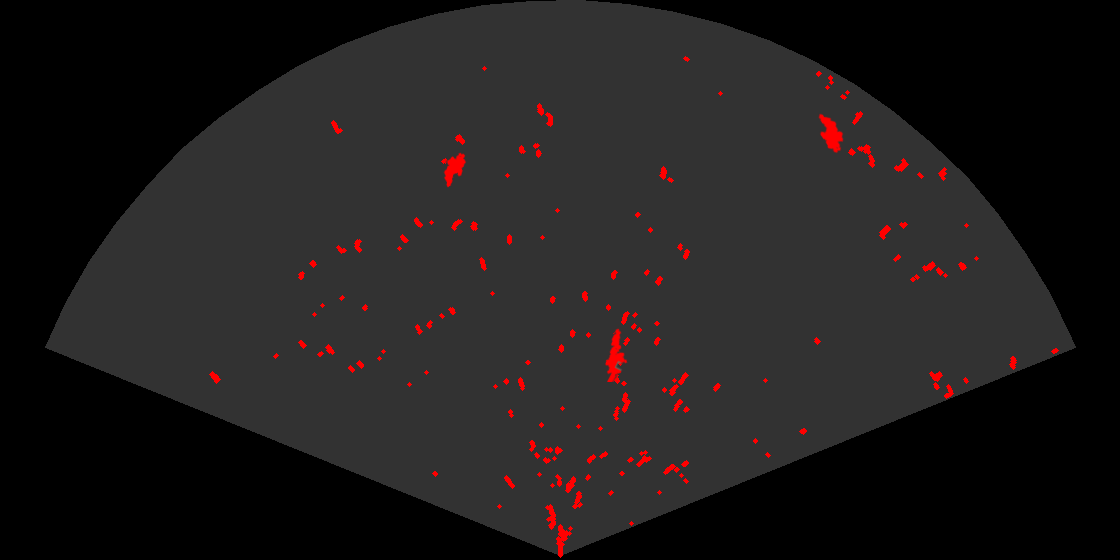AUV: (817, 112, 845, 155), (442, 151, 468, 189)
frogman: (603, 326, 629, 382)
